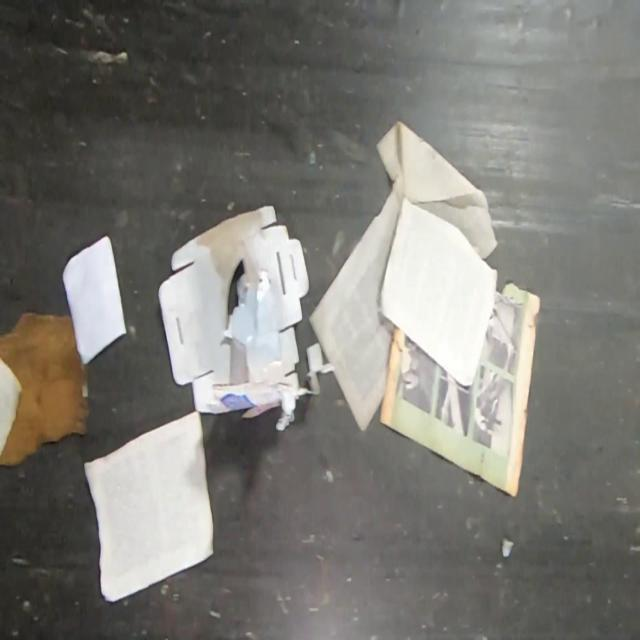cardboard: (158, 204, 321, 431), (0, 309, 90, 467)
soft_plastic: (220, 269, 284, 366)
